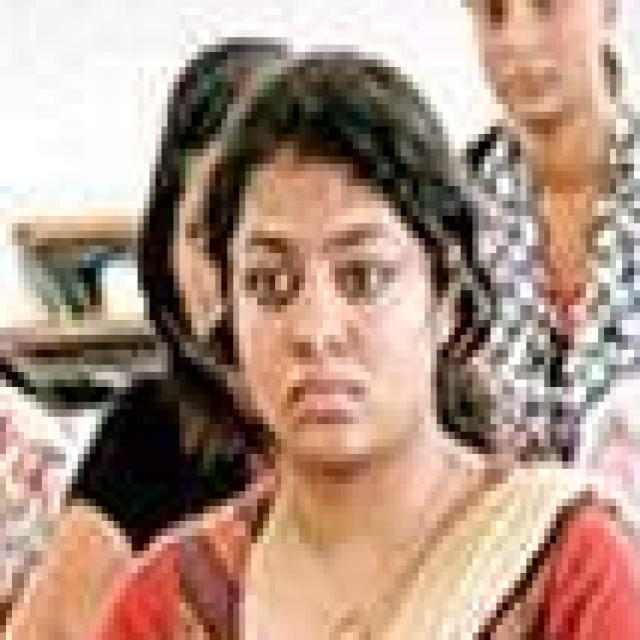Attentive: (227, 156, 422, 468)
